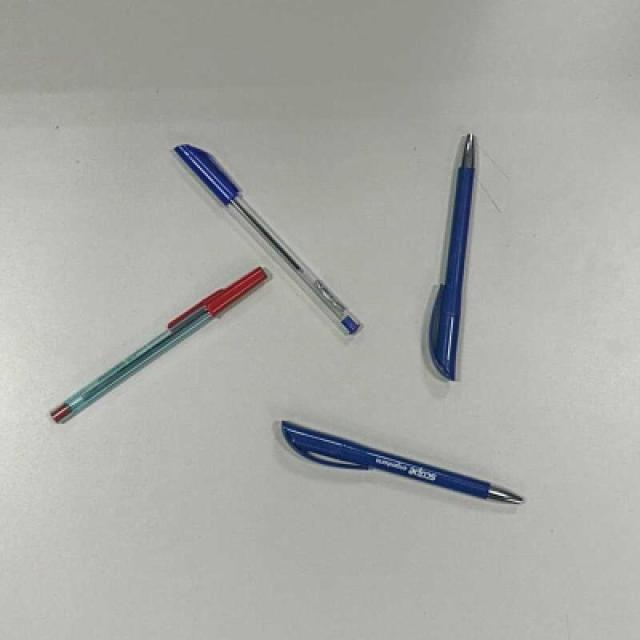caneta: (175, 132, 362, 340), (44, 262, 269, 426), (274, 420, 524, 523), (424, 131, 481, 379)
